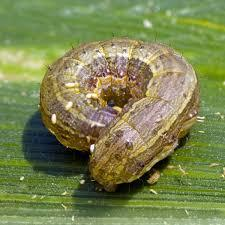fallarmy_worm: (40, 31, 201, 189)
